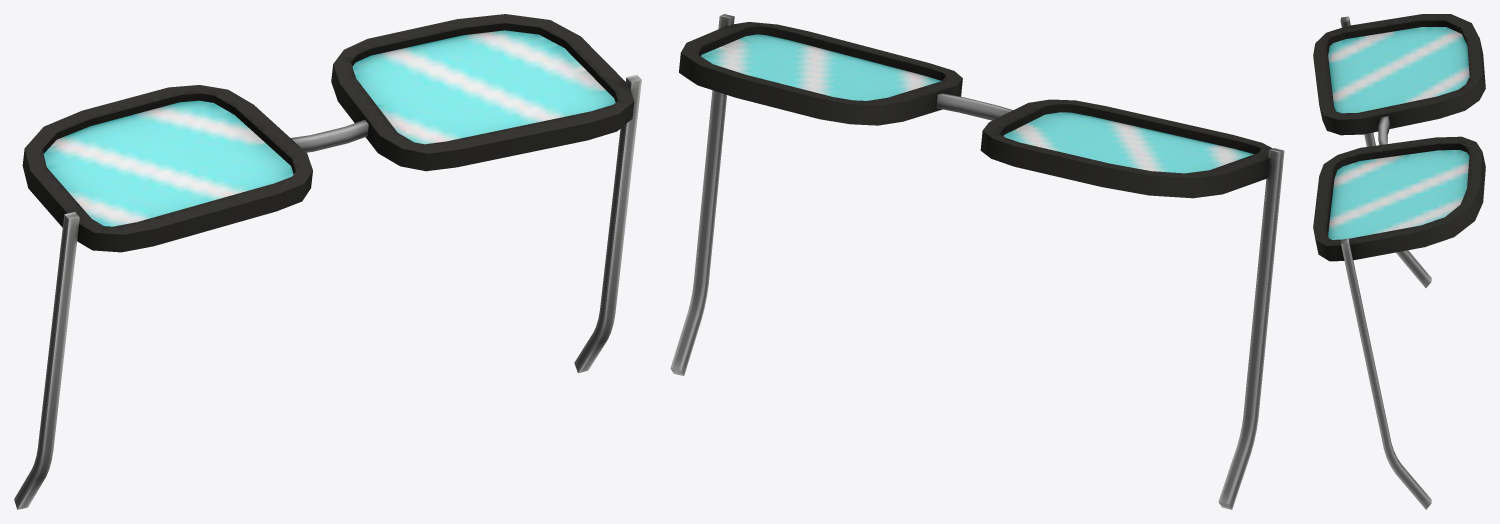
Rendered from Talio.fbx.
3 views of the same model, side by side, from view 1: azimuth 30°, elevation 25°; view 2: azimuth 150°, elevation 25°; view 3: azimuth 270°, elevation 25° (orthographic). The views are drawn at different scales.
Parts seen in each view (by area): view 1: Tl_model; view 2: Tl_model; view 3: Tl_model.
Part boxes in pixels (x1,y1,x2,y2): Tl_model: [14, 14, 641, 509]; Tl_model: [670, 14, 1284, 509]; Tl_model: [1313, 14, 1485, 509].
Bounding box in the file's own units: 0.2558 × 0.15 × 0.0825.
Materials: 1 (1 with a texture image).
